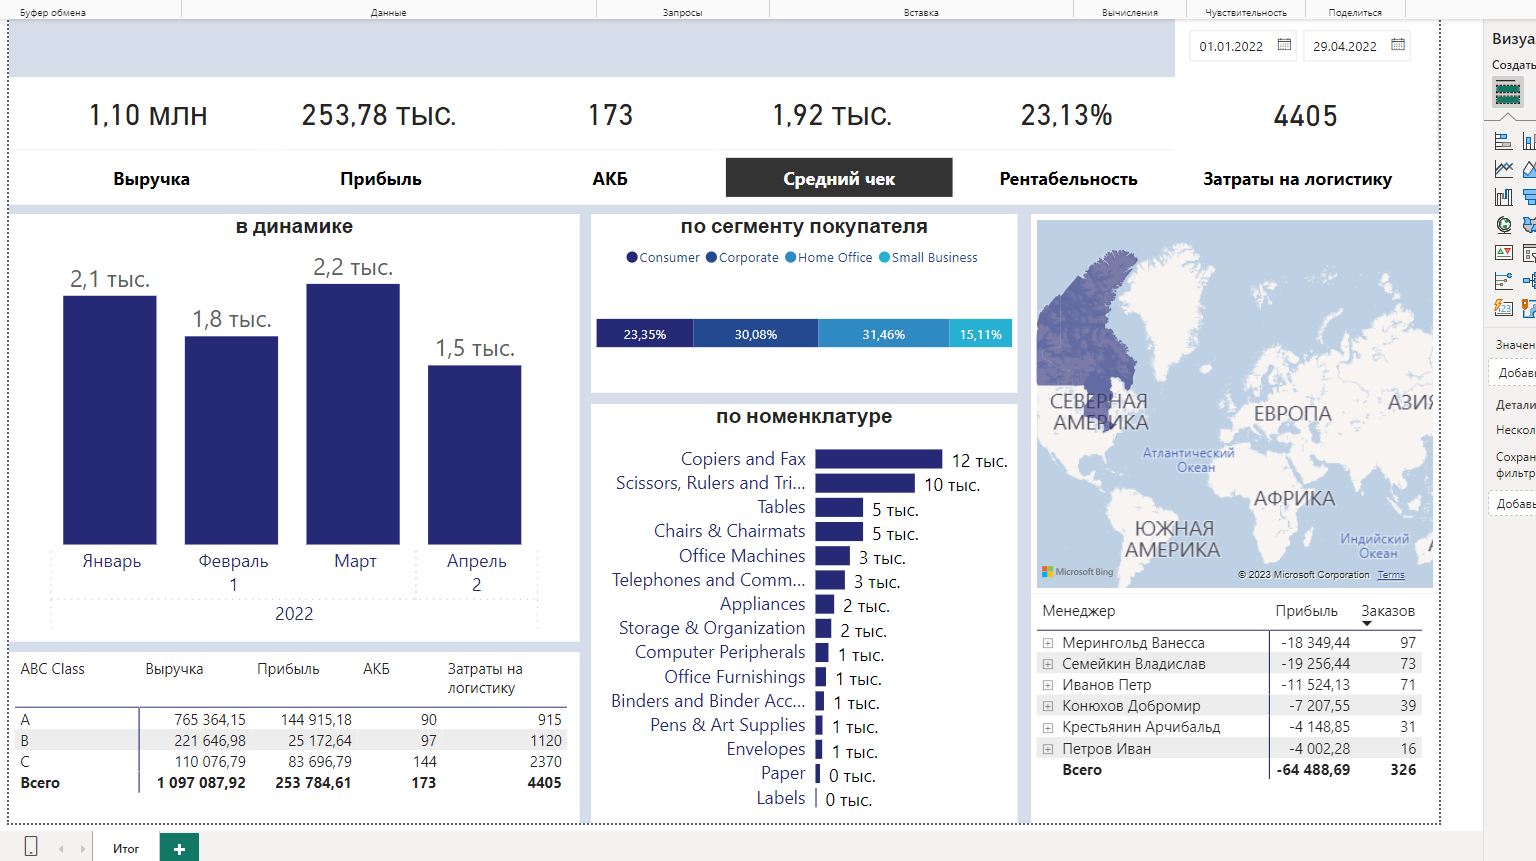

This screenshot's page, from the dashboard's own definition file:
{"tool":"powerbi","page":{"name":"Итог","canvas":[1280,720],"ordinal":0},"visuals":[{"type":"slicer","fields":{"Values":["_Фильтр.Мера"]},"box":[0,117.1,1279.7,49],"z":0},{"type":"card","fields":{"Values":["_Меры.Рентабельность"]},"box":[844,52,207,65],"z":1000},{"type":"card","fields":{"Values":["_Меры.Прибыль"]},"box":[220,52,221,65],"z":2000},{"type":"card","fields":{"Values":["_Меры.Выручка"]},"box":[0,52,248,65],"z":3000},{"type":"card","fields":{"Values":["_Меры.АКБ"]},"box":[440,52,197,65],"z":4000},{"type":"card","fields":{"Values":["_Меры.Средний чек"]},"box":[629,52,215,65],"z":5000},{"type":"card","fields":{"Values":["_Меры.Затраты на логистику"]},"box":[1043.5,52.8,236.2,65.3],"z":6000},{"type":"slicer","fields":{"Values":["Календарь.Date"]},"box":[1044,0,236,53],"z":7000},{"type":"columnChart","title":"в динамике","fields":{"Y":["_Меры.Выбор значения"],"Category":["Календарь.Год","Календарь.Квартал","Календарь.Месяц"]},"box":[0,175,511,383],"z":8000},{"type":"hundredPercentStackedBarChart","title":"по сегменту покупателя","fields":{"Y":["_Меры.Выбор значения"],"Series":["СПР_покупатели.Сегмент покупателя"]},"box":[521,175,382,160],"z":9000},{"type":"clusteredBarChart","title":"по номенклатуре","fields":{"Y":["_Меры.Выбор значения"],"Category":["СПР_продукты.Категория продукта","СПР_продукты.Подкатегория продукта","СПР_продукты.Продукт"]},"box":[521,345,382,375],"z":10000},{"type":"filledMap","fields":{"Category":["Продажи.Регион"]},"box":[915,175,365,340],"z":11000},{"type":"pivotTable","fields":{"Rows":["СПР_Менеджеры.Менеджер","Продажи.Order_ID"],"Values":["_Меры.7. Отлиц.прибыль","_Меры.Кол-во заказов с отрицательной прибылью"]},"box":[915,515,365,205],"z":12000},{"type":"pivotTable","fields":{"Rows":["СПР_продукты.ABC Class"],"Values":["_Меры.1.Выручка","_Меры.2.Прибыль","_Меры.4.АКБ","_Меры.6.Затраты на логистику"]},"box":[0,567,511,153],"z":13000}]}

Visuals, with their boxes on the page's 1280x720 design canvas (x1, y1, x2, y2). These are canvas units, not pixel positions in the 1536x861 screenshot, which may show the page scaled, cropped or inside an application window:
slicer - _Фильтр.Мера: {"x1": 0, "y1": 117, "x2": 1280, "y2": 166}
card - _Меры.Рентабельность: {"x1": 844, "y1": 52, "x2": 1051, "y2": 117}
card - _Меры.Прибыль: {"x1": 220, "y1": 52, "x2": 441, "y2": 117}
card - _Меры.Выручка: {"x1": 0, "y1": 52, "x2": 248, "y2": 117}
card - _Меры.АКБ: {"x1": 440, "y1": 52, "x2": 637, "y2": 117}
card - _Меры.Средний чек: {"x1": 629, "y1": 52, "x2": 844, "y2": 117}
card - _Меры.Затраты на логистику: {"x1": 1044, "y1": 53, "x2": 1280, "y2": 118}
slicer - Календарь.Date: {"x1": 1044, "y1": 0, "x2": 1280, "y2": 53}
"в динамике" columnChart: {"x1": 0, "y1": 175, "x2": 511, "y2": 558}
"по сегменту покупателя" hundredPercentStackedBarChart: {"x1": 521, "y1": 175, "x2": 903, "y2": 335}
"по номенклатуре" clusteredBarChart: {"x1": 521, "y1": 345, "x2": 903, "y2": 720}
filledMap - Продажи.Регион: {"x1": 915, "y1": 175, "x2": 1280, "y2": 515}
pivotTable - СПР_Менеджеры.Менеджер x Продажи.Order_ID: {"x1": 915, "y1": 515, "x2": 1280, "y2": 720}
pivotTable - СПР_продукты.ABC Class x _Меры.1.Выручка: {"x1": 0, "y1": 567, "x2": 511, "y2": 720}
